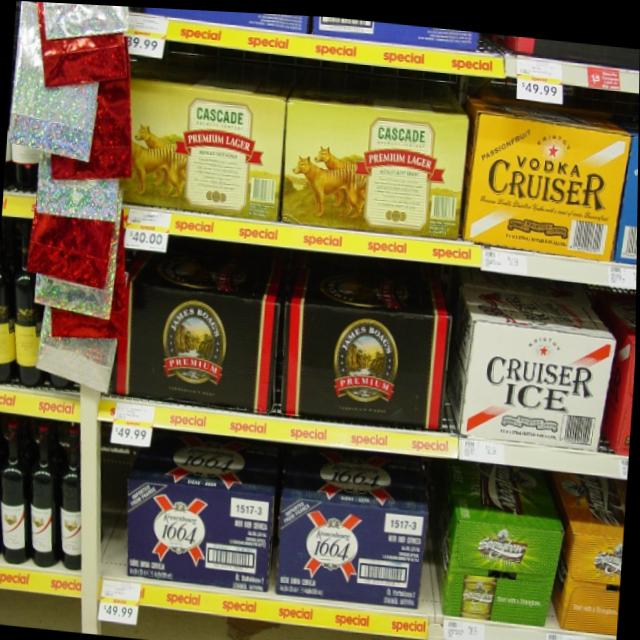q1: (0, 420, 39, 566), (52, 426, 90, 569), (26, 423, 65, 562), (0, 410, 6, 564)
q163: (280, 282, 453, 435), (121, 276, 282, 420)
